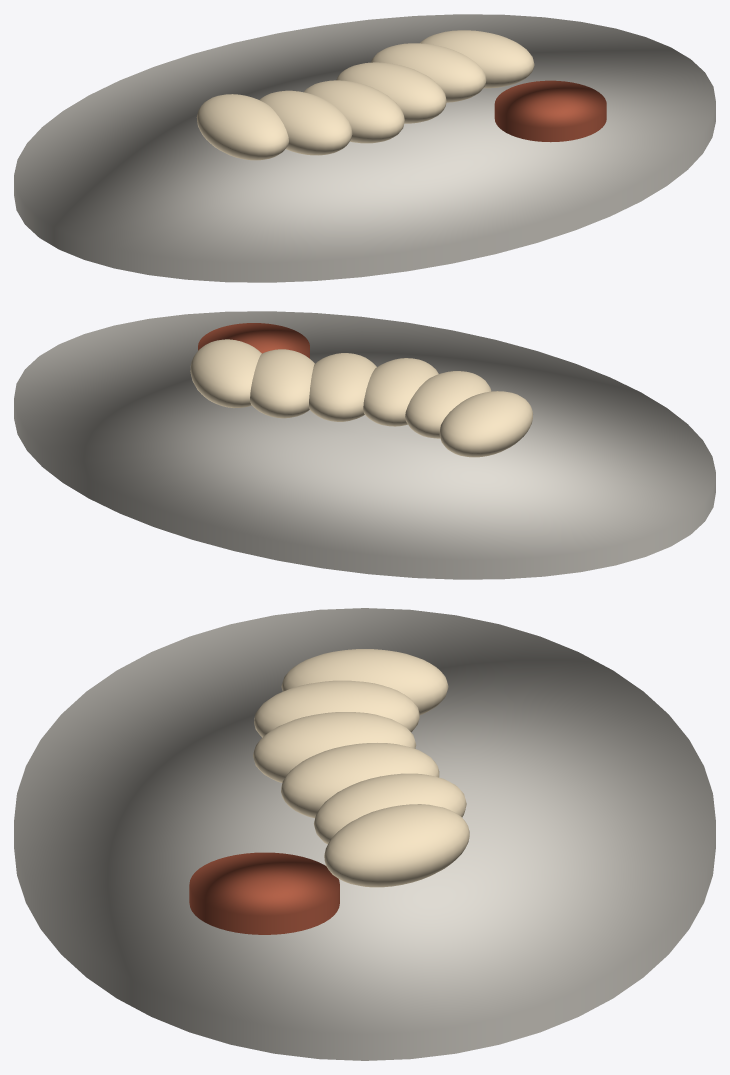
Rendered from gyoza.glb.
3 renders of one model, top to bottom at view 1: azimuth 30°, elevation 25°; view 2: azimuth 150°, elevation 25°; view 3: azimuth 270°, elevation 25°, orthographic. The views are drawn at different scales.
Bounding box in the file's own units: 2.41 × 0.295 × 1.68.
